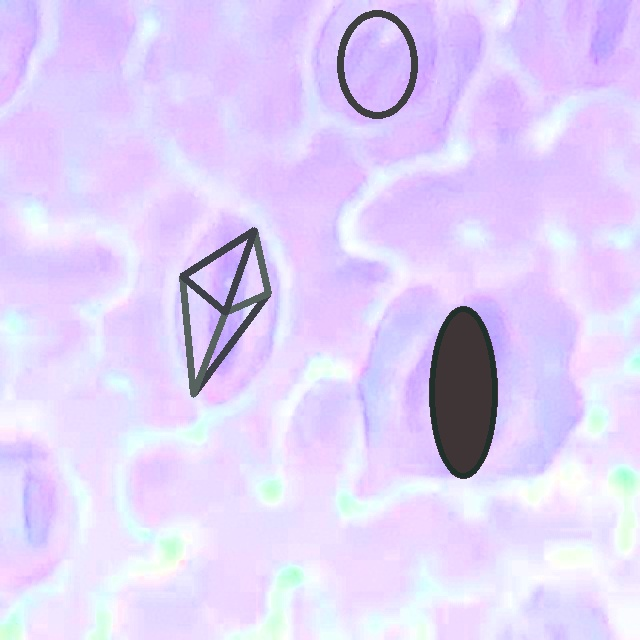open: (179, 228, 271, 397), (429, 307, 498, 478), (337, 9, 417, 119)
